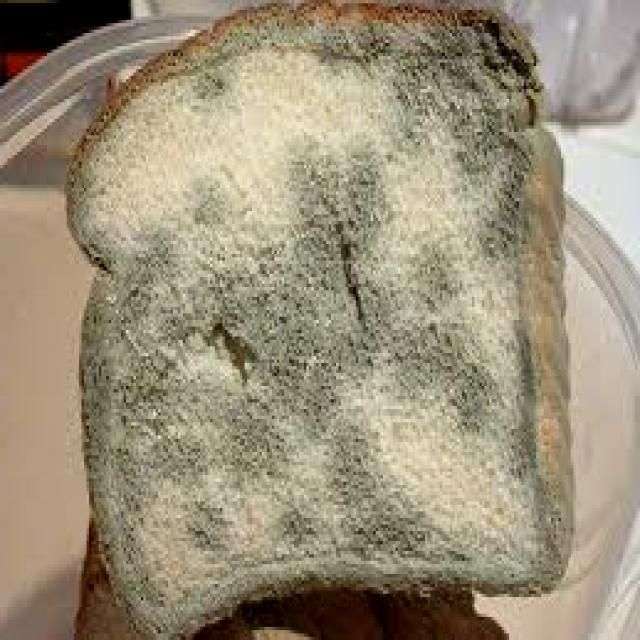organic: (74, 24, 574, 631)
